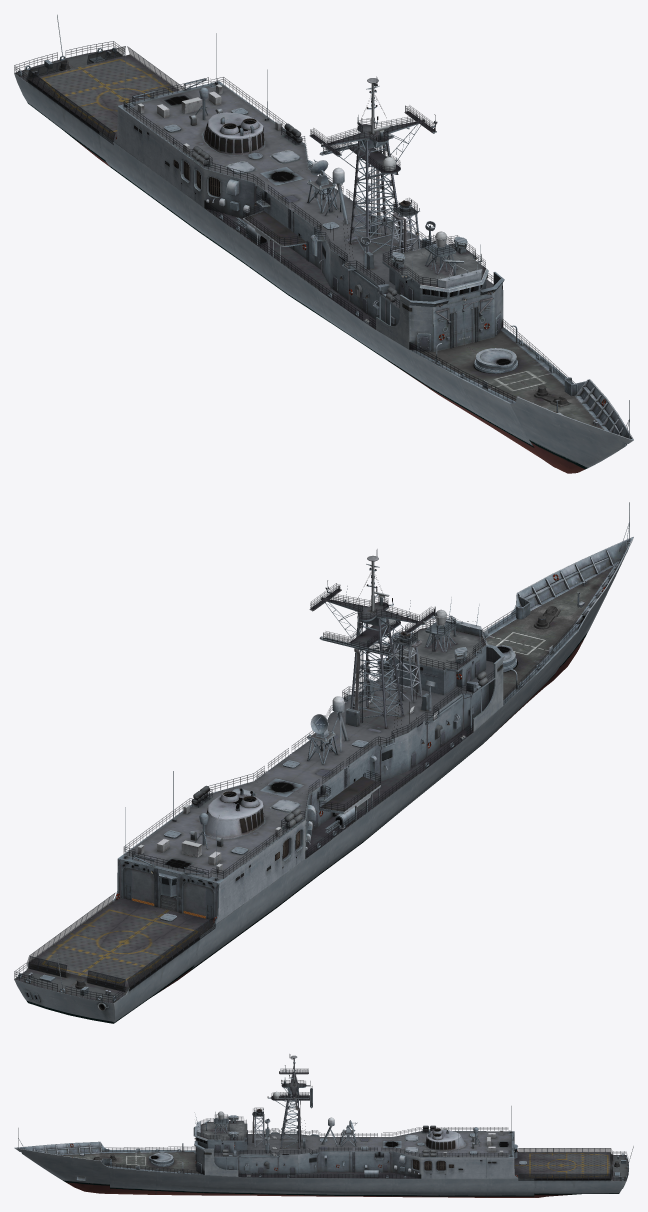
Rendered from cgjhwj.gltf.
3 renders of one model, top to bottom at view 1: azimuth 30°, elevation 25°; view 2: azimuth 150°, elevation 25°; view 3: azimuth 270°, elevation 25°, orthographic. The views are drawn at different scales.
Visible parts, largest first — view 1: CHJ_HWJ; view 2: CHJ_HWJ; view 3: CHJ_HWJ.
Boxes of the visible parts, <box> form: CHJ_HWJ: <box>14,14,633,473</box>; CHJ_HWJ: <box>14,502,633,1023</box>; CHJ_HWJ: <box>14,1054,633,1197</box>.
Size of the model in its own units: 2.35 by 5.36 by 21.08.
Materials: 8 (8 with a texture image).
